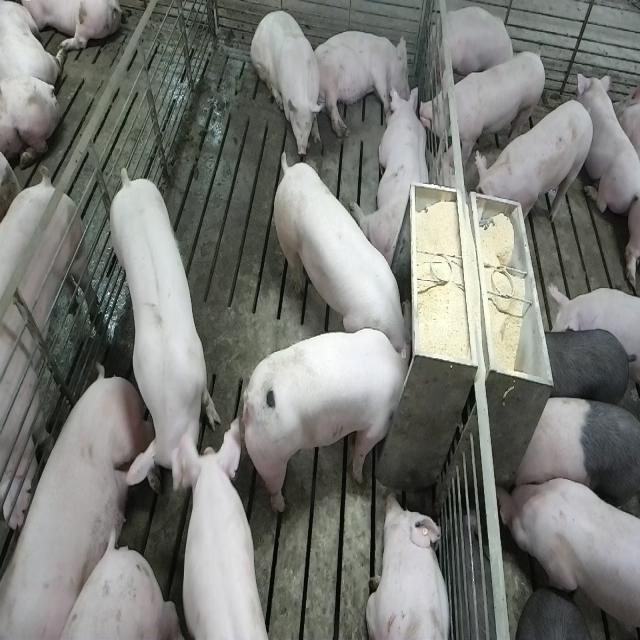Feeding: (247, 328, 420, 516), (269, 143, 410, 356)
Lateral_lying: (3, 366, 162, 640), (311, 30, 411, 138)
Sitting: (250, 6, 324, 159)
Standing: (107, 168, 222, 500), (0, 175, 98, 543), (498, 474, 638, 640), (172, 420, 269, 640), (474, 98, 596, 230), (513, 394, 638, 521), (421, 47, 548, 160), (530, 324, 638, 416)
Sternal_lying: (356, 85, 432, 269), (365, 490, 453, 640), (578, 72, 638, 223)
